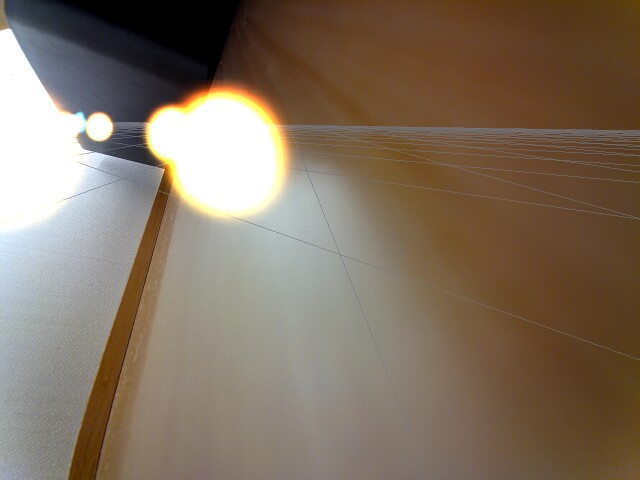fire: (172, 89, 297, 228), (3, 93, 87, 242), (143, 102, 185, 160), (86, 111, 115, 144)
